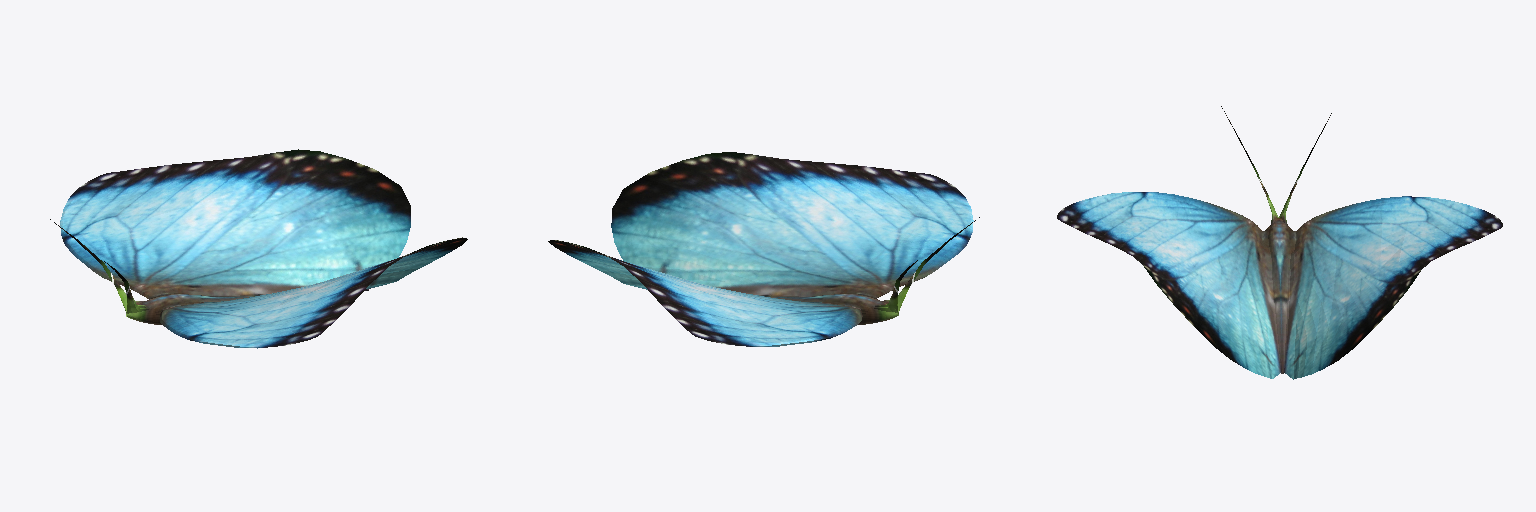
3 views of the same model, side by side, from view 1: azimuth 30°, elevation 25°; view 2: azimuth 150°, elevation 25°; view 3: azimuth 270°, elevation 25° (orthographic).
Parts seen in each view (by area): view 1: Cylinder10; view 2: Cylinder10; view 3: Cylinder10.
Part boxes in pixels (bbox=[...]): Cylinder10: bbox=[50, 149, 467, 348]; Cylinder10: bbox=[548, 152, 979, 346]; Cylinder10: bbox=[1057, 106, 1502, 379].
Size of the model in its own units: 26.81 by 8.79 by 28.18.
Materials: 1 (1 with a texture image).